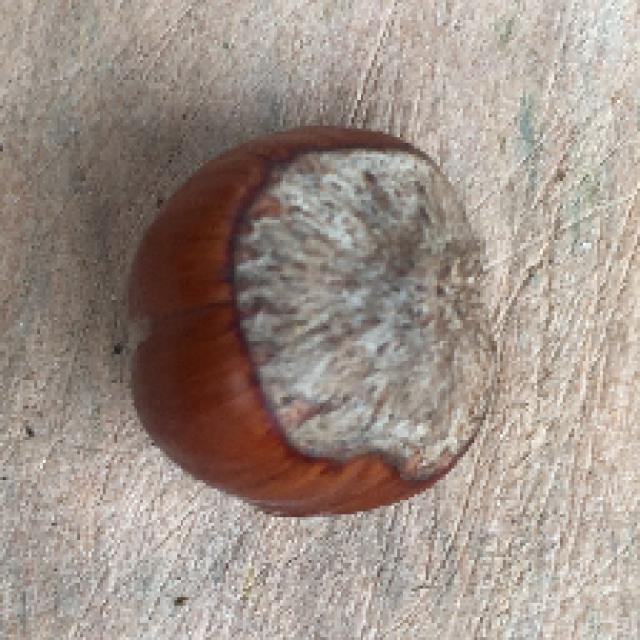qualityHazelnut: (119, 123, 499, 519)
